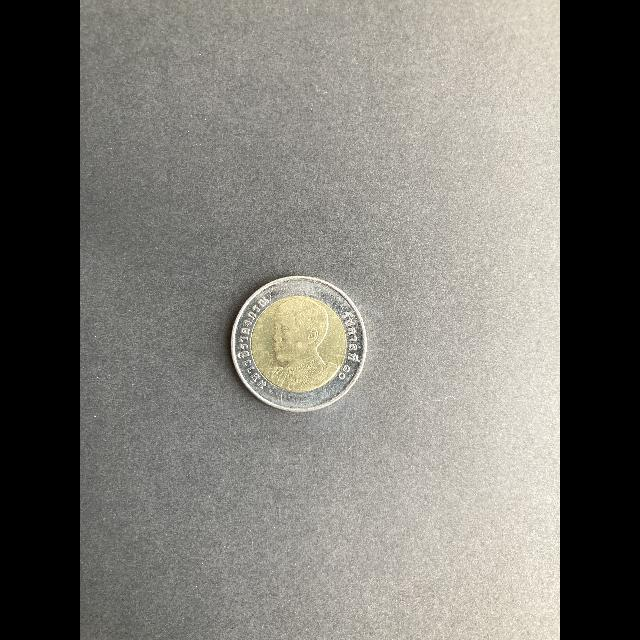10 Bath: (229, 275, 368, 414)
